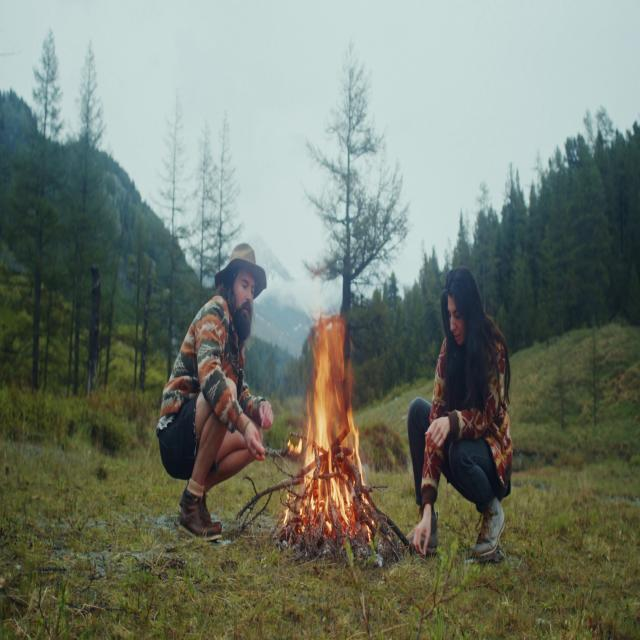Fire: (292, 299, 370, 536)
